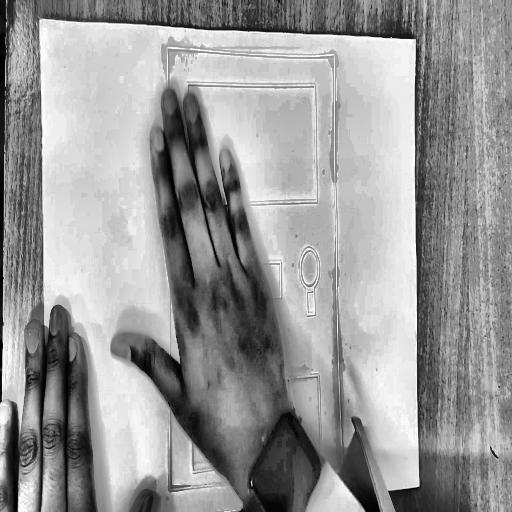bottom_right: (417, 481, 422, 489)
door: (163, 37, 348, 497)
top_left: (37, 15, 42, 24)
top_right: (413, 36, 419, 44)
